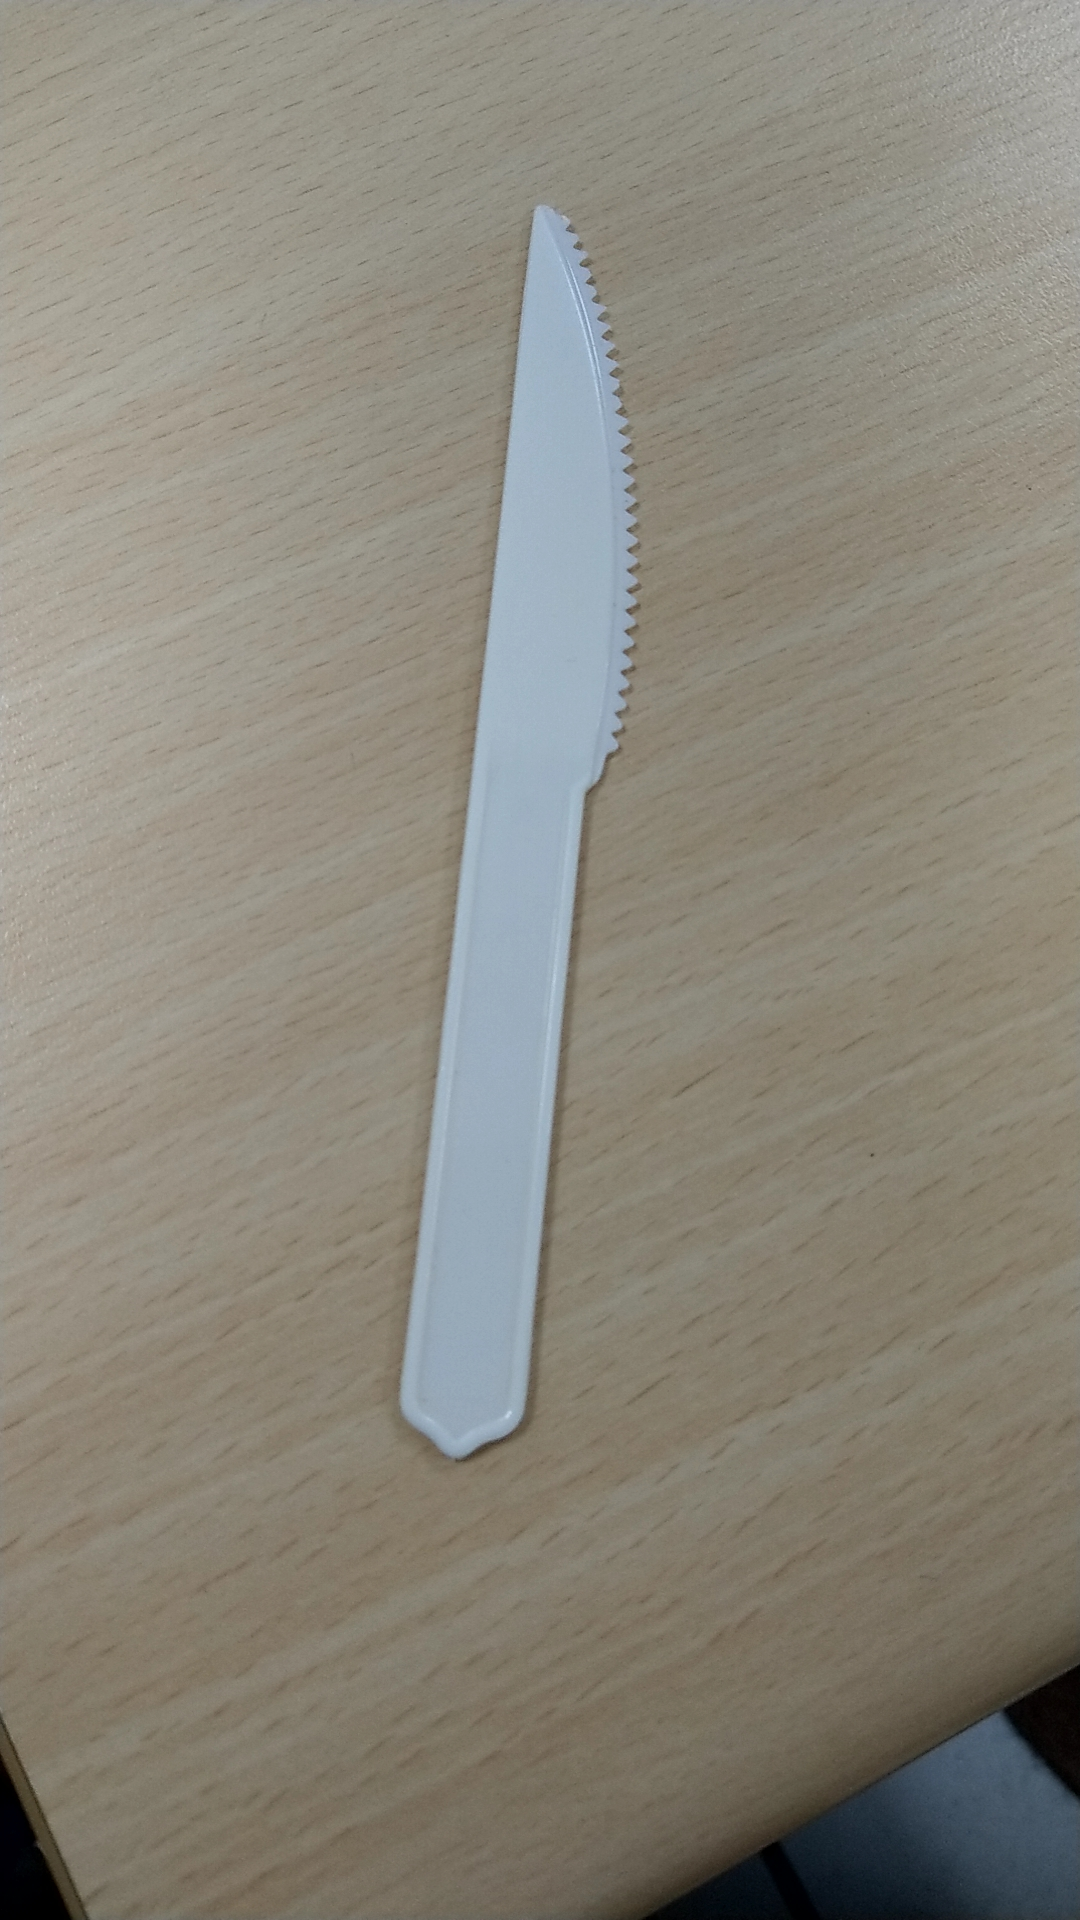knife: (384, 171, 662, 1480)
